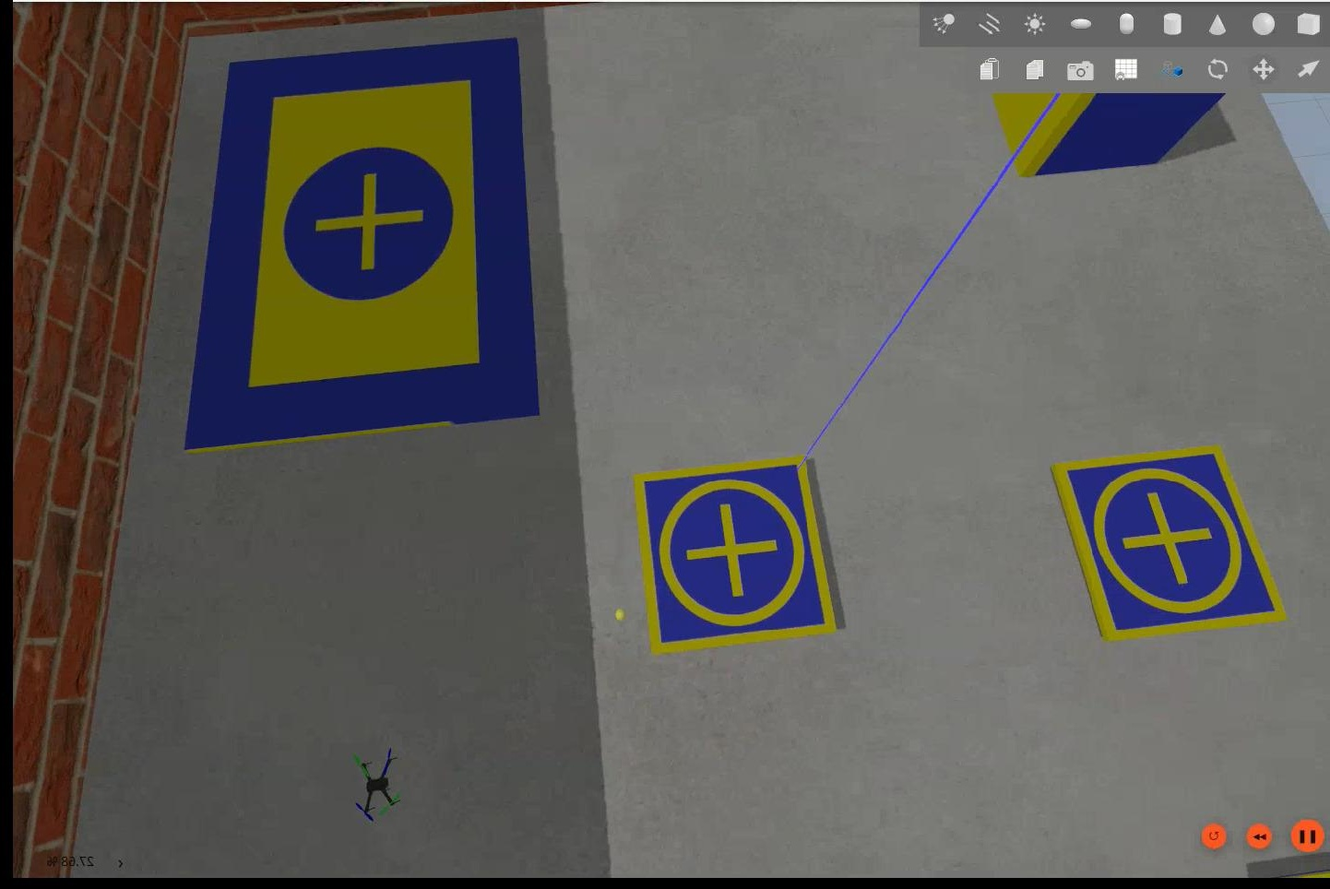large_base: (177, 41, 543, 454)
small_base: (1047, 443, 1285, 646), (631, 454, 837, 660)
